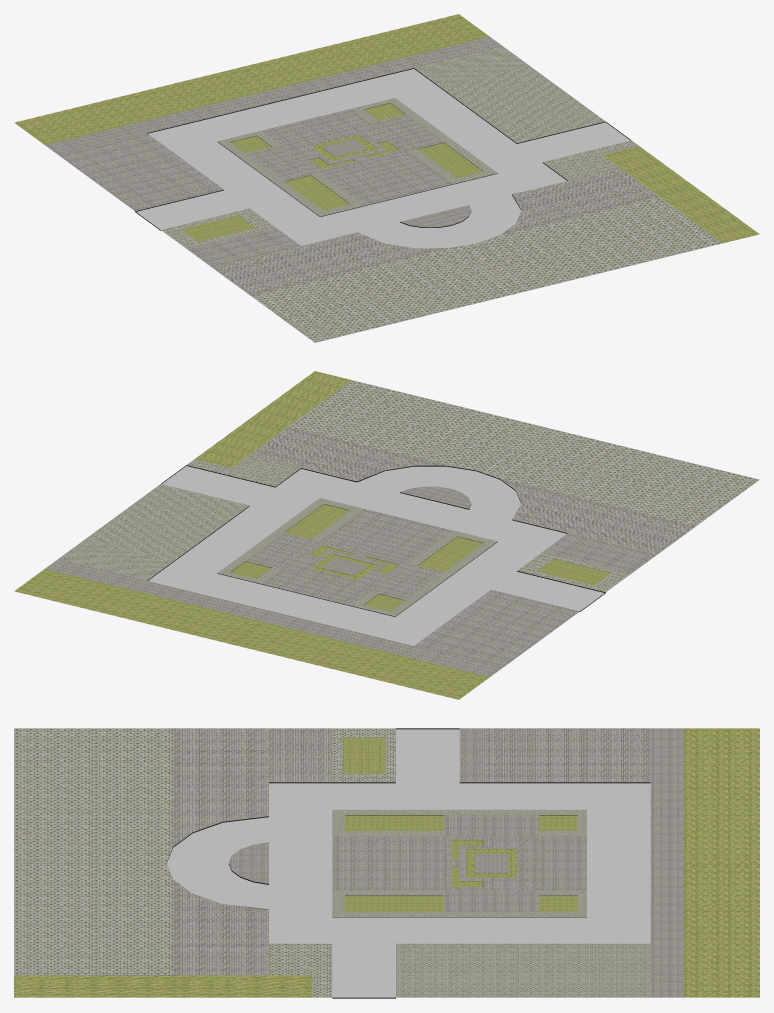
File: san fix.fbx
The picture shows the model from 3 angles, top to bottom: view 1: azimuth 30°, elevation 25°; view 2: azimuth 150°, elevation 25°; view 3: azimuth 270°, elevation 25°; orthographic projection. The views are drawn at different scales.
Parts seen in each view (by area): view 1: pCylinder2; view 2: pCylinder2; view 3: pCylinder2.
Boxes of the visible parts, <box> form: pCylinder2: <box>14,14,759,342</box>; pCylinder2: <box>14,371,759,699</box>; pCylinder2: <box>14,728,759,998</box>.
Bounding box in the file's own units: 2385 × 5.42 × 2794.
